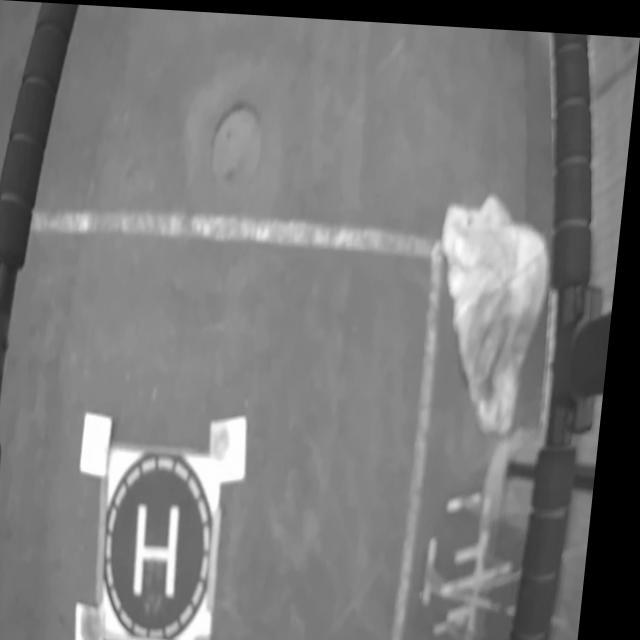Helipad: (145, 501, 192, 597)
